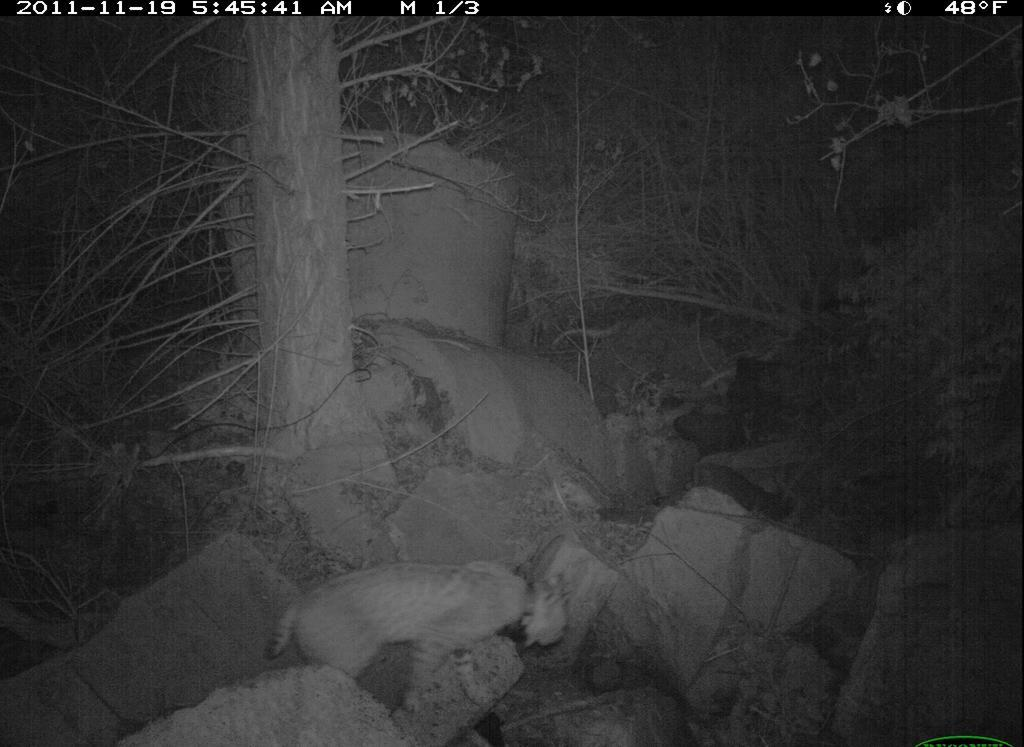bobcat: (265, 539, 588, 708)
